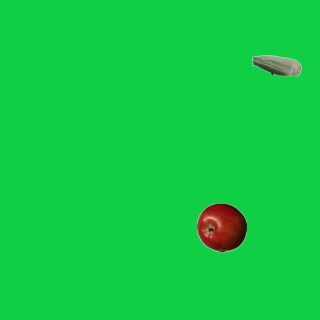Apple Braeburn: (196, 202, 246, 252)
Corn Husk: (251, 40, 301, 90)
